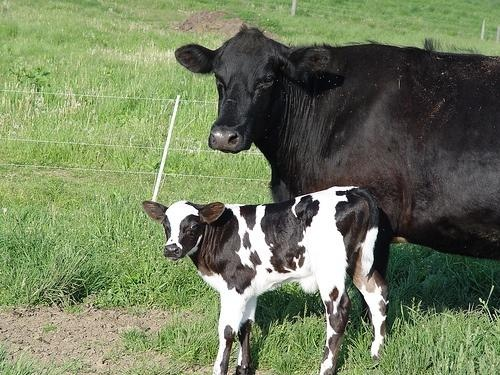cow: (175, 25, 500, 319), (143, 185, 391, 375)
